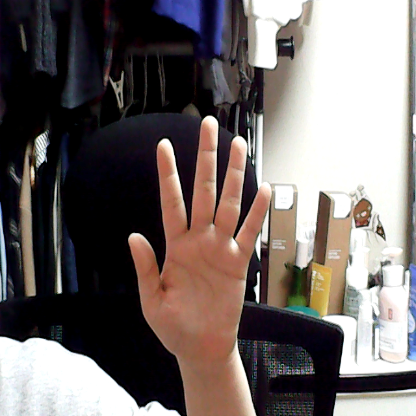Finger_5: (122, 104, 278, 374)
